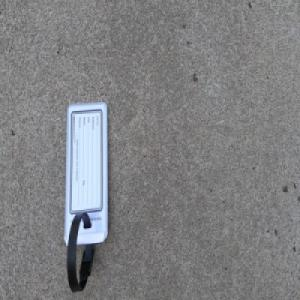LuggageTag: (62, 98, 111, 294)
